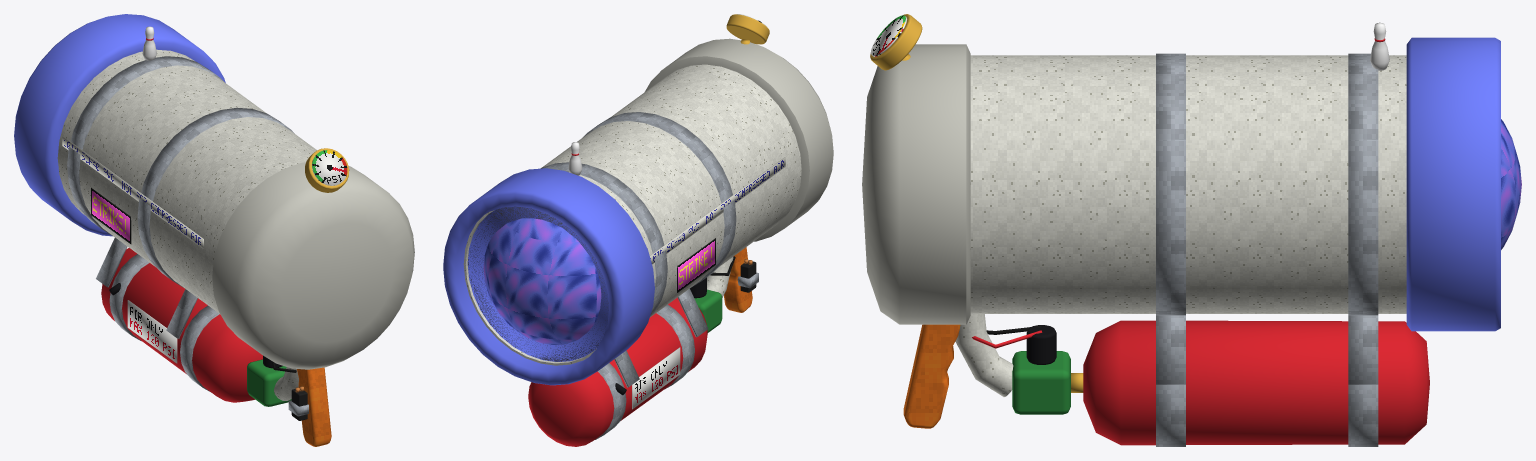
File: w_bowling.glb
3 views of the same model, side by side, from view 1: azimuth 30°, elevation 25°; view 2: azimuth 150°, elevation 25°; view 3: azimuth 270°, elevation 25° (orthographic). The views are drawn at different scales.
Visible parts, largest first — view 1: bowling_body_wzA, bowling_body_wzB, bowling_body_wzN; view 2: bowling_body_wzB, bowling_body_wzA, bowling_body_wzN; view 3: bowling_body_wzA, bowling_body_wzB, bowling_body_wzN.
Boxes of the visible parts, <box> form: bowling_body_wzA: <box>57,49,414,400</box>; bowling_body_wzB: <box>14,14,331,446</box>; bowling_body_wzN: <box>62,26,349,420</box>; bowling_body_wzB: <box>443,168,752,446</box>; bowling_body_wzA: <box>463,38,833,365</box>; bowling_body_wzN: <box>468,14,785,439</box>; bowling_body_wzA: <box>862,44,1406,396</box>; bowling_body_wzB: <box>903,37,1521,445</box>; bowling_body_wzN: <box>870,14,1389,446</box>.
Size of the model in its own units: 0.352 by 0.5596 by 0.79.
Materials: 22 (8 with a texture image).
